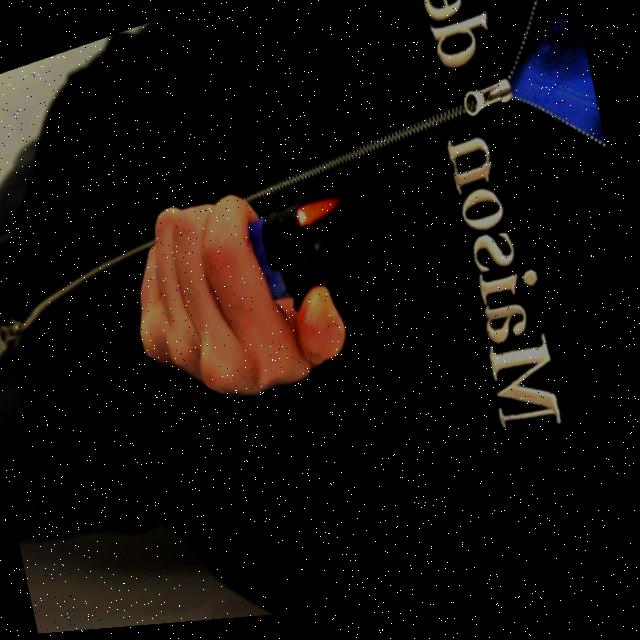Fire: (292, 192, 354, 238)
